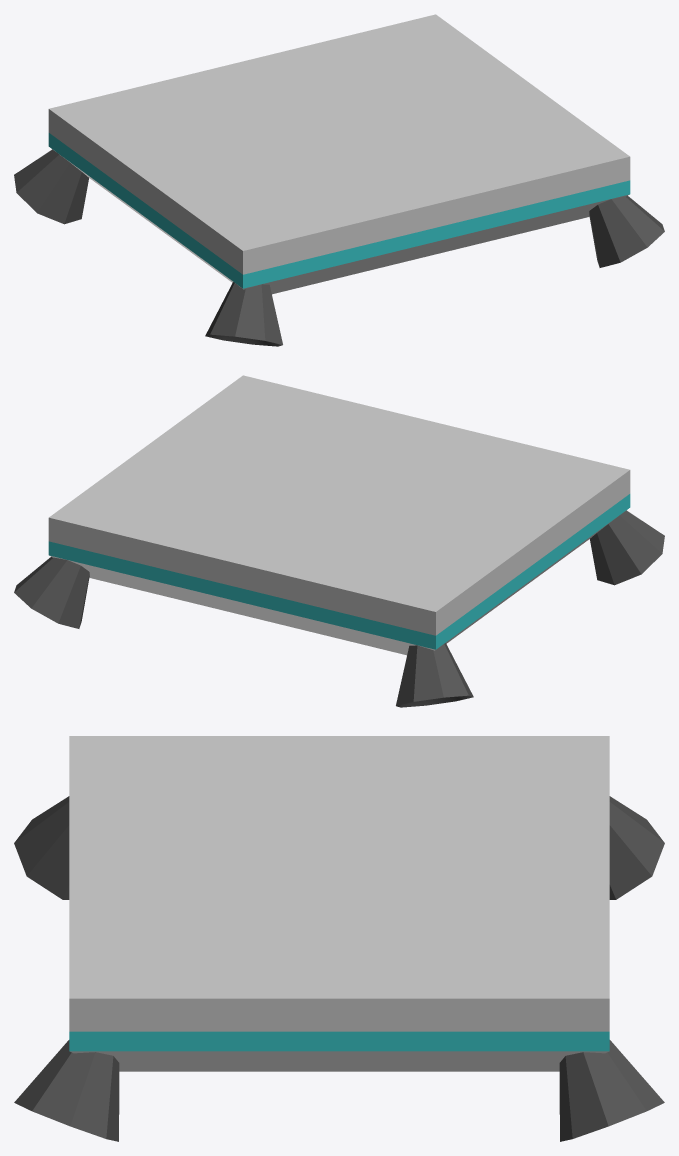
File: skycrane.fbx
3 views of the same model, one above another, from view 1: azimuth 30°, elevation 25°; view 2: azimuth 150°, elevation 25°; view 3: azimuth 270°, elevation 25° (orthographic). The views are drawn at different scales.
Parts seen in each view (by area): view 1: Nozzle_1; view 2: Nozzle_1; view 3: Nozzle_1.
Boxes of the visible parts, left/top/right/bottom form: Nozzle_1: left=14, top=14, right=664, bottom=346; Nozzle_1: left=14, top=375, right=664, bottom=707; Nozzle_1: left=14, top=736, right=664, bottom=1141.
Size of the model in its own units: 403 by 91.32 by 361.
